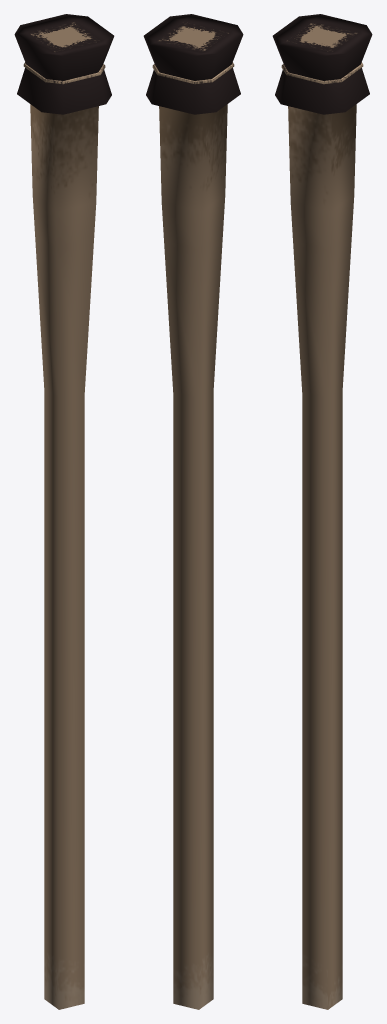
Rendered from prop_soihtumaa.fbx.
3 views of the same model, side by side, from view 1: azimuth 30°, elevation 25°; view 2: azimuth 150°, elevation 25°; view 3: azimuth 330°, elevation 25° (orthographic).
Visible parts, largest first — view 1: prop_soihtumaa; view 2: prop_soihtumaa; view 3: prop_soihtumaa.
Part boxes in pixels (bbox=[...]): prop_soihtumaa: bbox=[14, 14, 114, 1009]; prop_soihtumaa: bbox=[143, 14, 243, 1009]; prop_soihtumaa: bbox=[272, 14, 372, 1009].
Bounding box in the file's own units: 43.63 × 548 × 43.63.
